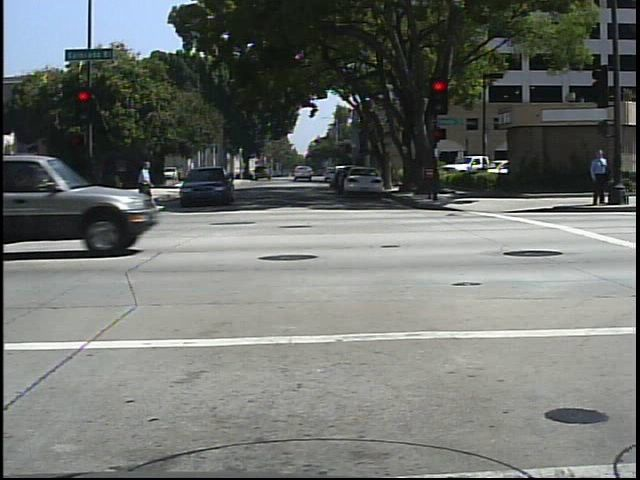person: (130, 154, 160, 218), (587, 143, 610, 209)
